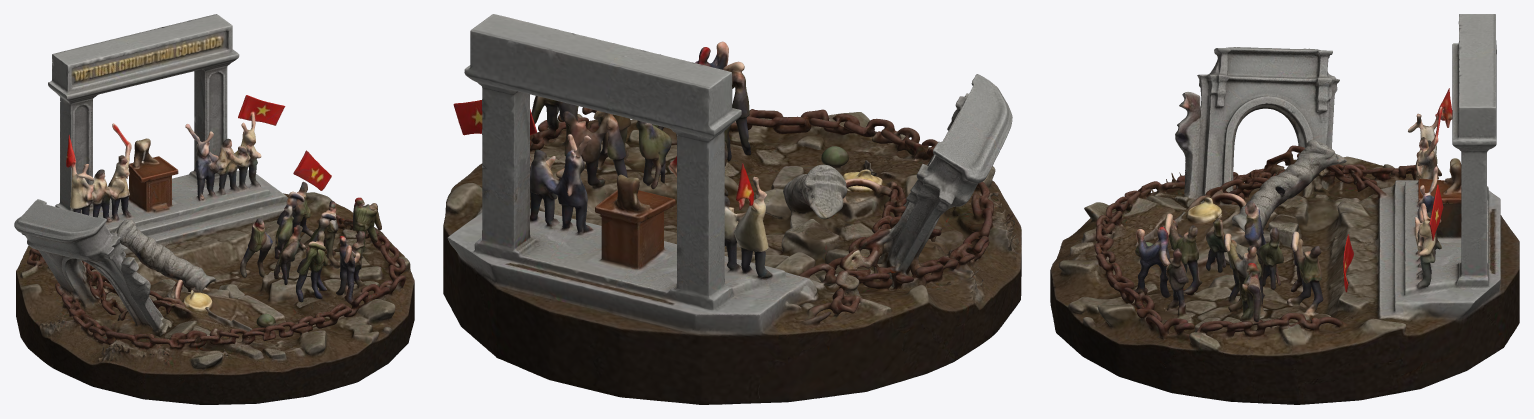
File: giai_phong_sau_1000_nam.glb
3 renders of one model, left to right at view 1: azimuth 30°, elevation 25°; view 2: azimuth 150°, elevation 25°; view 3: azimuth 270°, elevation 25°, orthographic. The views are drawn at different scales.
Bounding box in the file's own units: 1.64 × 0.9572 × 1.61.
1 material, 1 textured.
